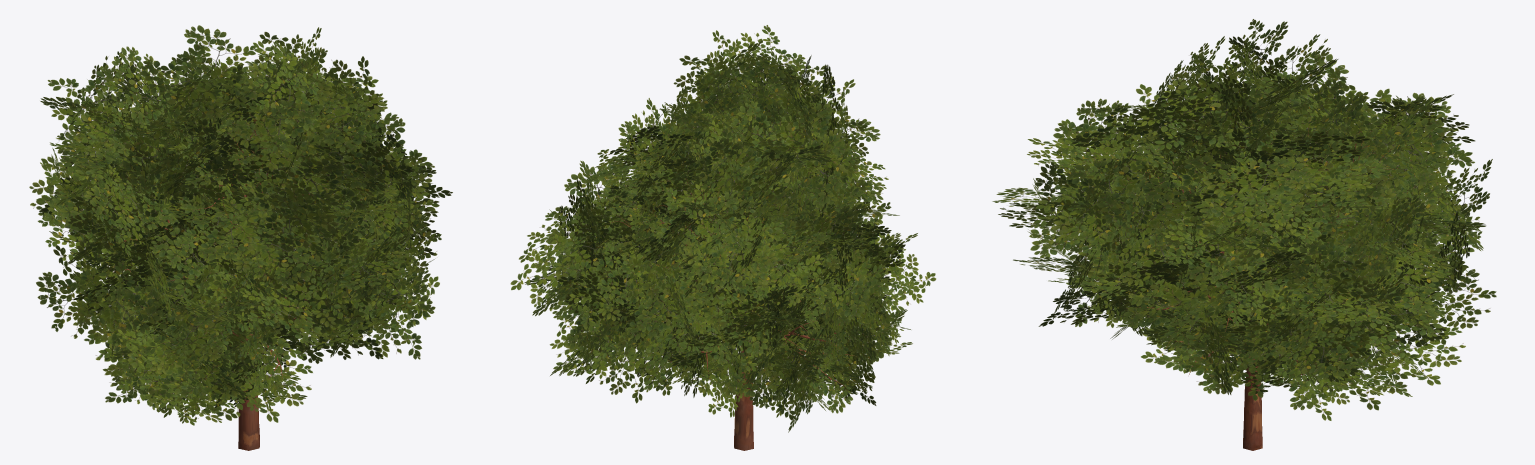
The model's file is Oak.glb.
The picture shows the model from 3 angles, left to right: view 1: azimuth 30°, elevation 25°; view 2: azimuth 150°, elevation 25°; view 3: azimuth 270°, elevation 25°; orthographic projection. The views are drawn at different scales.
Visible parts, largest first — view 1: 棱角球, tree; view 2: 棱角球, tree; view 3: 棱角球, tree.
Part boxes in pixels (x1,y1,x2,y2): 棱角球: [29, 25, 452, 425]; tree: [106, 114, 342, 450]; 棱角球: [510, 25, 935, 432]; tree: [611, 122, 856, 450]; 棱角球: [992, 19, 1496, 420]; tree: [1127, 117, 1398, 450].
Size of the model in its own units: 1.71 by 1.78 by 2.13.
2 materials, 2 textured.
